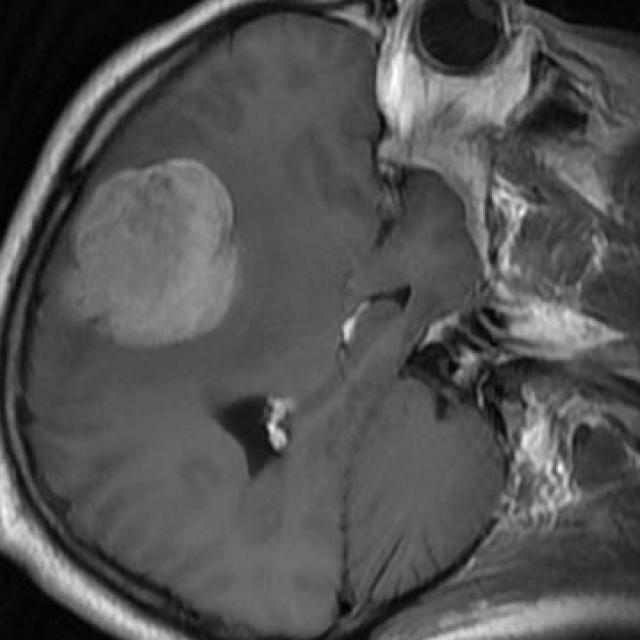meningioma: (68, 159, 232, 348)
